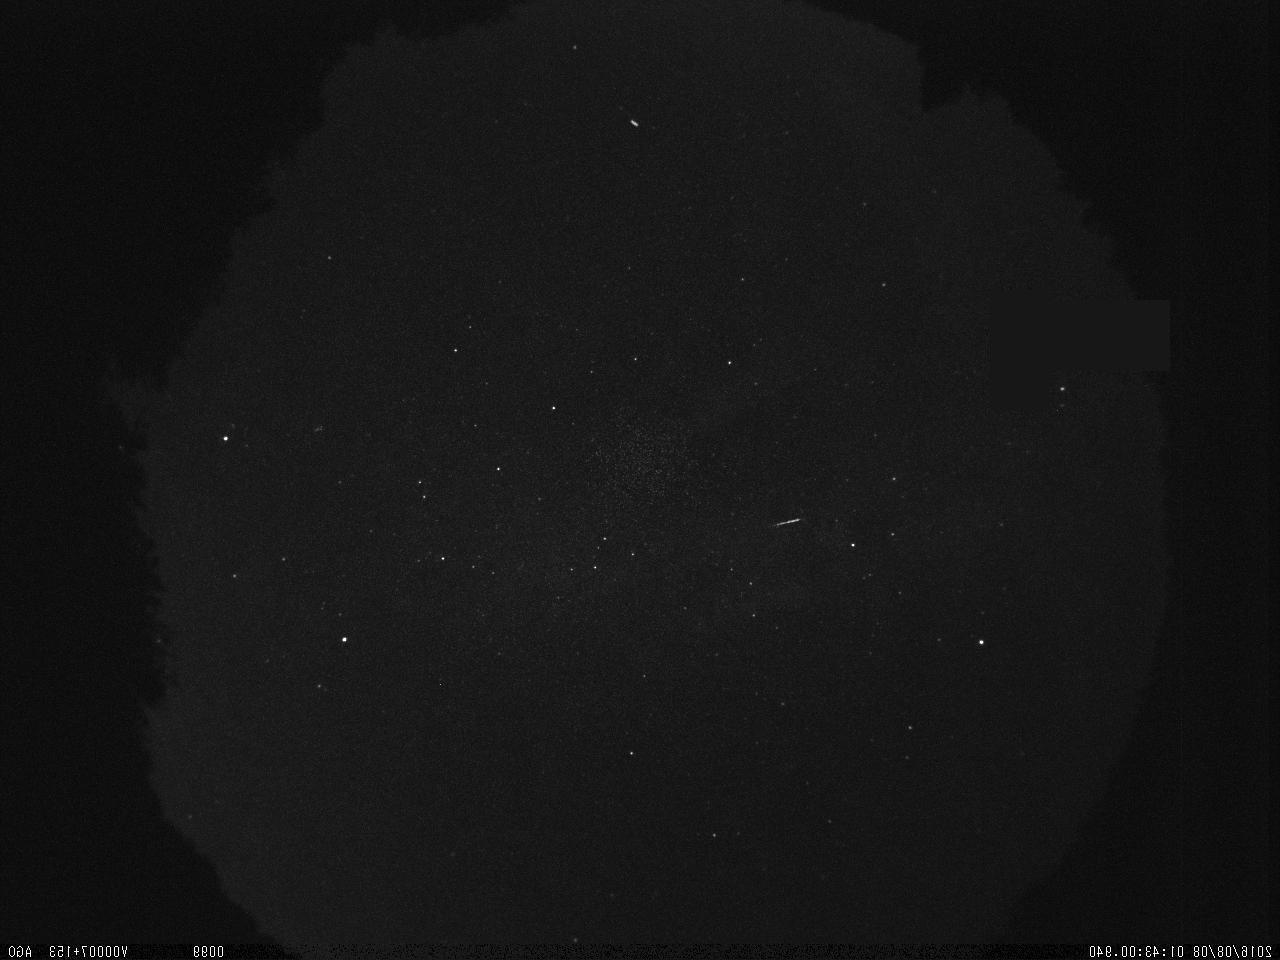meteor: (763, 511, 809, 534)
